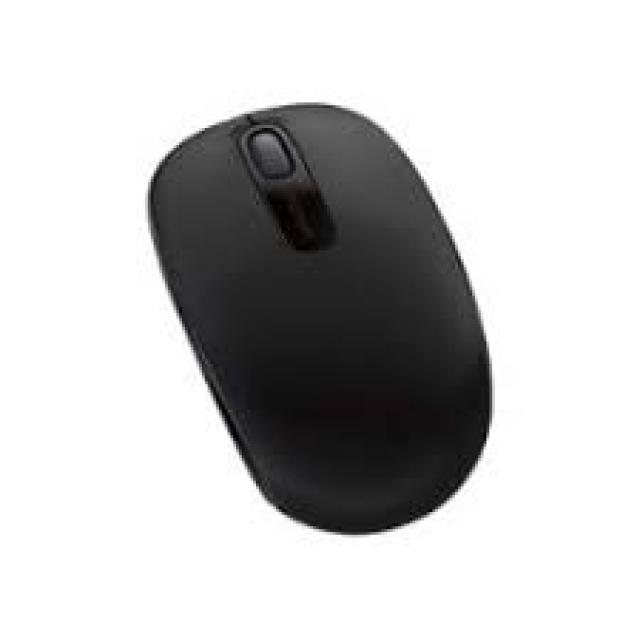others: (108, 88, 526, 546)
